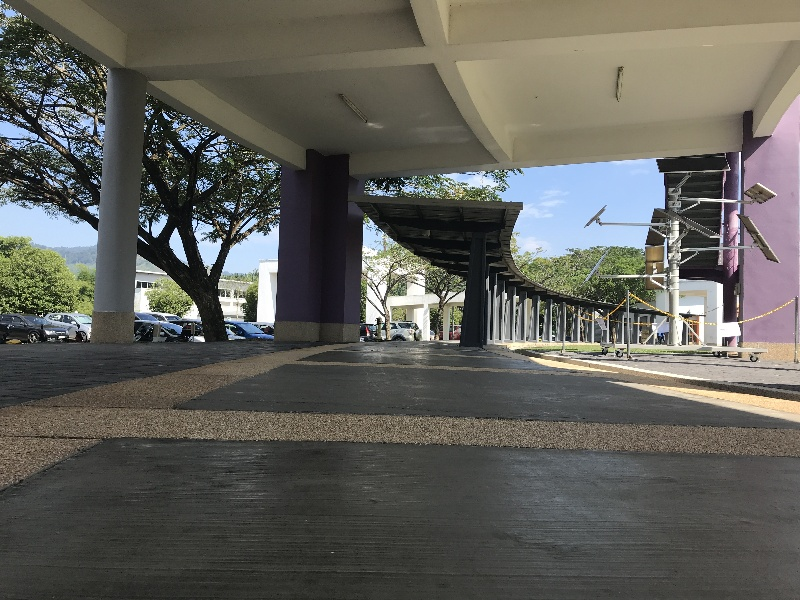Block D Pillar 5: (7, 5, 799, 533)
pillar: (260, 139, 377, 353), (81, 48, 153, 358), (721, 104, 800, 363), (453, 226, 493, 366)
